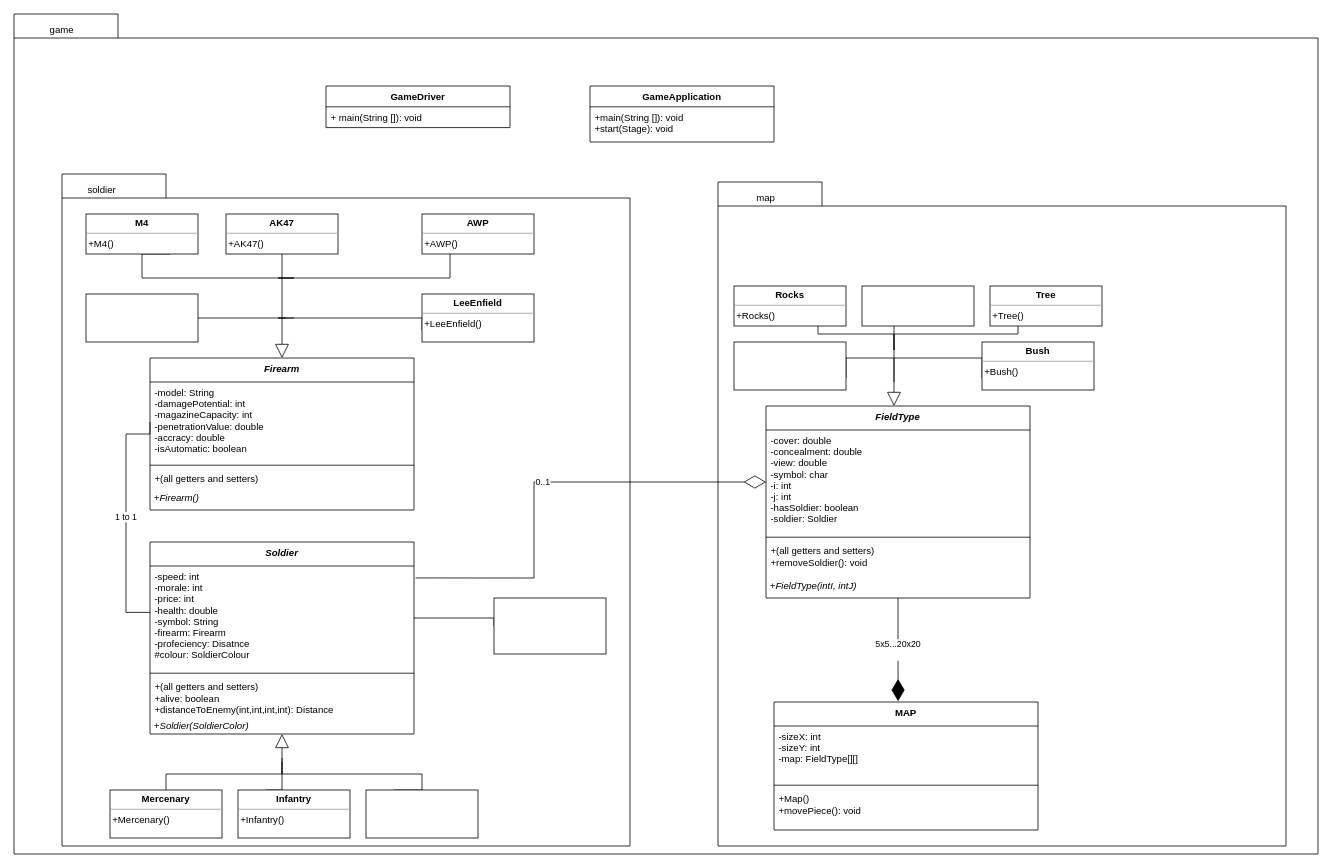
Image size: 1332x868. Some labels were removed from this diagram. Here are the shapes that lost their labels. From the top down, the centre of each, then its label:
At pixel 141 317: "MP5 +MP5()".
At pixel 917 305: "Plain +Plain()".
At pixel 789 365: "Hill +Hill()".
At pixel 549 625: "<<enumaration>> SoldierColour RED, BLUE".
At pixel 421 813: "Sniper +Sniper()".
